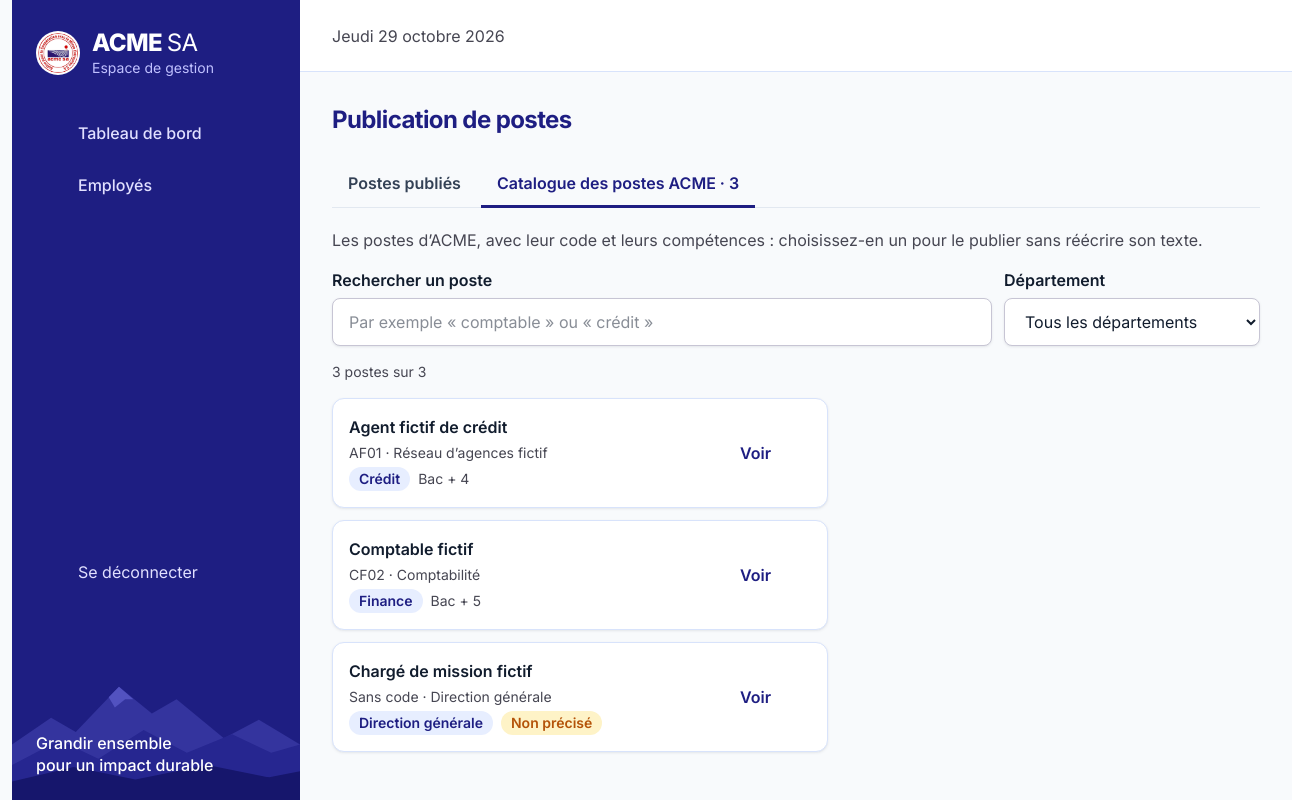
it: US-119 CA-02 — rechercher, filtrer et lire une fiche › un compte en lecture seule lit les fiches sans pouvoir publier
Click the button "Voir" in the row of "Bac + 5" at (770, 575), box left=728, top=553, right=811, bottom=597
(page scrolled)
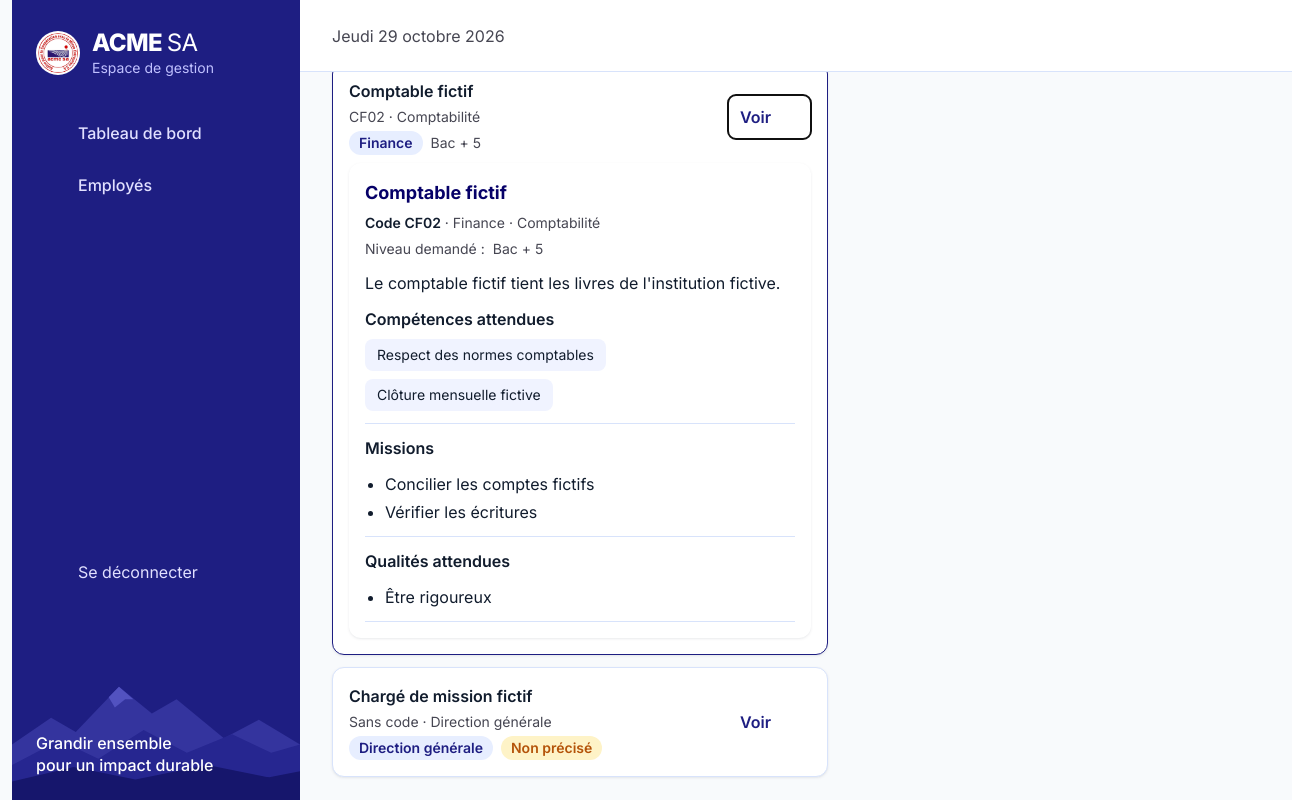
Check: the element "Comptable fictif" is shown, box left=349, top=163, right=811, bottom=638
